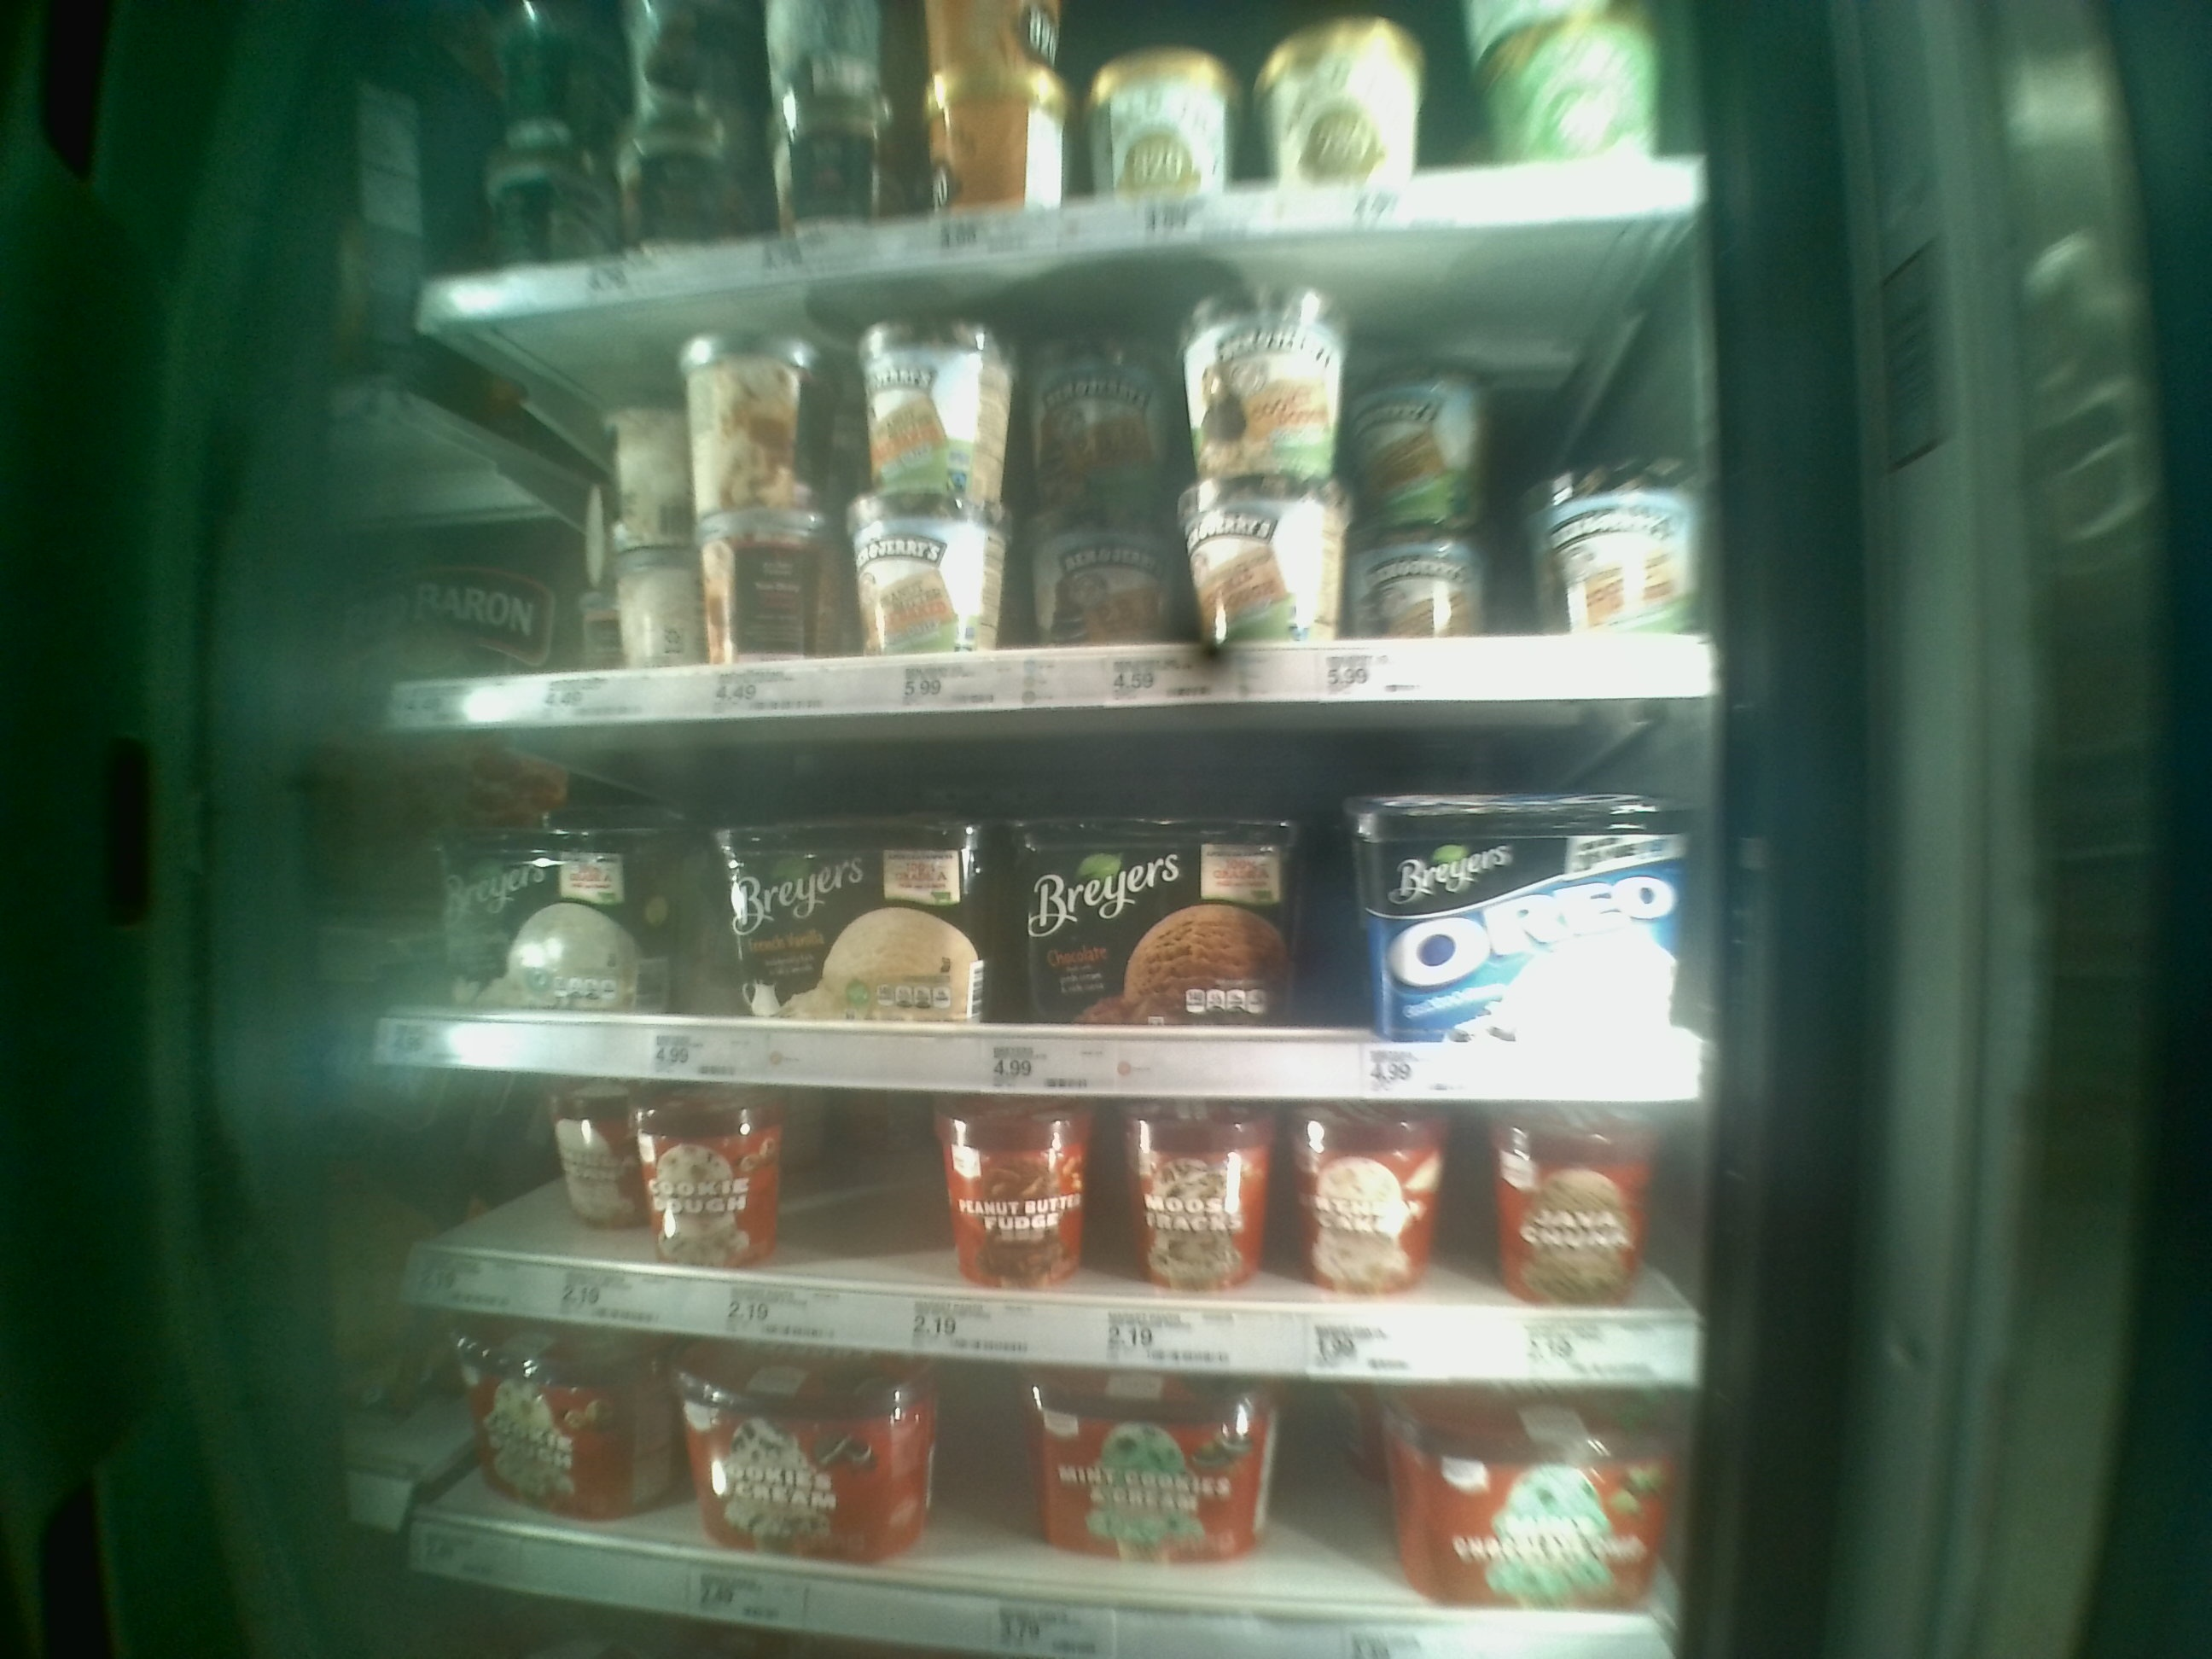ice-cream-shelf: (371, 694, 1716, 1098), (374, 1073, 1716, 1389)
